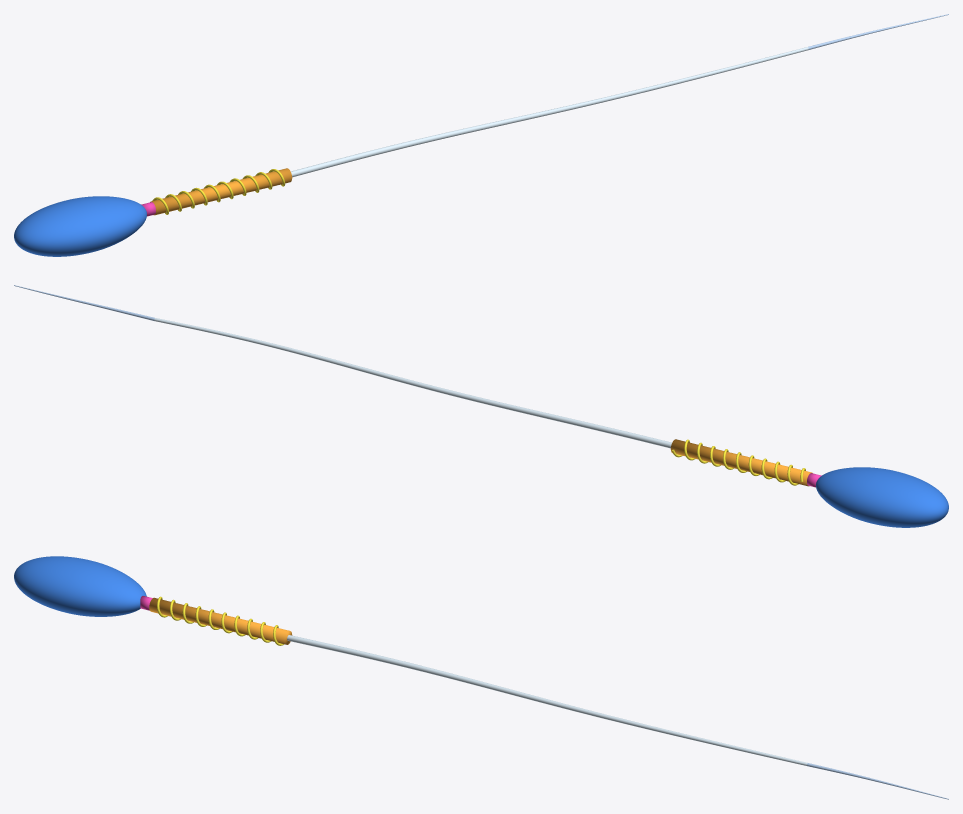
Rendered from 04_Cabeza_redonda_sin_acrosoma.glb.
3 views of the same model, one above another, from view 1: azimuth 30°, elevation 25°; view 2: azimuth 150°, elevation 25°; view 3: azimuth 330°, elevation 25° (orthographic).
Visible parts, largest first — view 1: Cabeza_nucleo_sin_acrosoma, Cola_pieza_principal.001, Pieza_intermedia.001, Helice_mitocondrial_didactica.001; view 2: Cabeza_nucleo_sin_acrosoma, Cola_pieza_principal.001, Pieza_intermedia.001, Helice_mitocondrial_didactica.001; view 3: Cabeza_nucleo_sin_acrosoma, Cola_pieza_principal.001, Pieza_intermedia.001, Helice_mitocondrial_didactica.001.
Part boxes in pixels (x1,y1,x2,y2): Cabeza_nucleo_sin_acrosoma: (14,196,146,256); Cola_pieza_principal.001: (291,47,808,177); Pieza_intermedia.001: (150,168,292,215); Helice_mitocondrial_didactica.001: (152,169,285,214); Cabeza_nucleo_sin_acrosoma: (816,467,948,527); Cola_pieza_principal.001: (154,318,671,448); Pieza_intermedia.001: (670,439,812,486); Helice_mitocondrial_didactica.001: (672,439,805,485); Cabeza_nucleo_sin_acrosoma: (14,556,146,616); Cola_pieza_principal.001: (287,635,807,765); Pieza_intermedia.001: (149,597,292,644); Helice_mitocondrial_didactica.001: (157,596,283,645).
Size of the model in its own units: 62.8 by 2.84 by 4.56.
